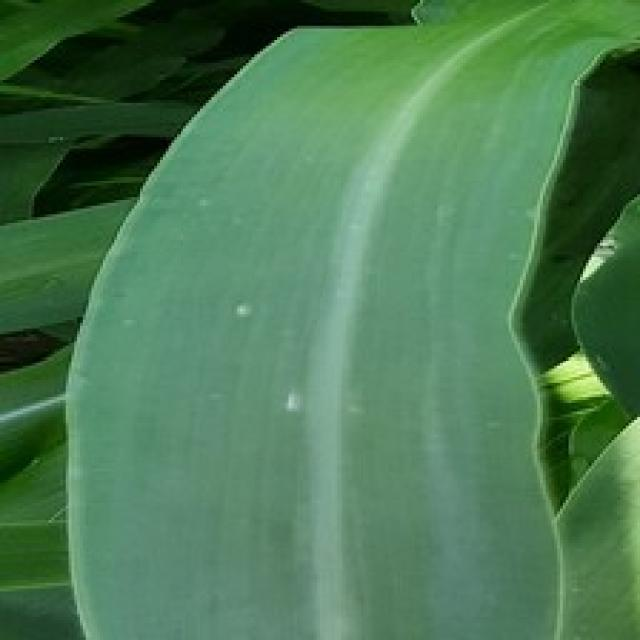Corn: (60, 0, 637, 637)
